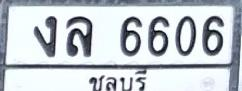0: (175, 15, 196, 56)
6: (120, 15, 142, 56), (202, 15, 224, 55), (148, 15, 169, 56)
A07: (33, 14, 57, 56)
A36: (66, 15, 92, 56)
CBI: (85, 69, 148, 91)
